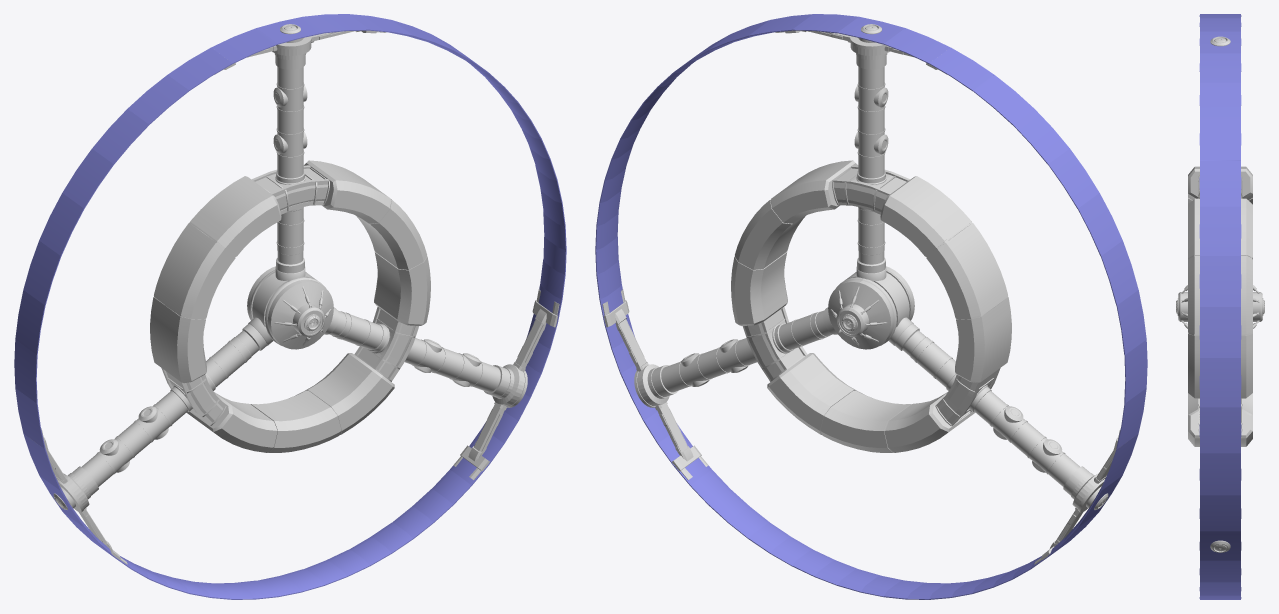
The model's file is SKM_PopulationModule.fbx.
3 renders of one model, left to right at view 1: azimuth 30°, elevation 25°; view 2: azimuth 150°, elevation 25°; view 3: azimuth 270°, elevation 25°, orthographic. The views are drawn at different scales.
Parts seen in each view (by area): view 1: SKM_PopulationModule; view 2: SKM_PopulationModule; view 3: SKM_PopulationModule.
Part boxes in pixels (<box>): SKM_PopulationModule: <box>14,14,566,599</box>; SKM_PopulationModule: <box>595,14,1147,599</box>; SKM_PopulationModule: <box>1176,14,1264,599</box>.
Size of the model in its own units: 9894 by 9927 by 1500.
